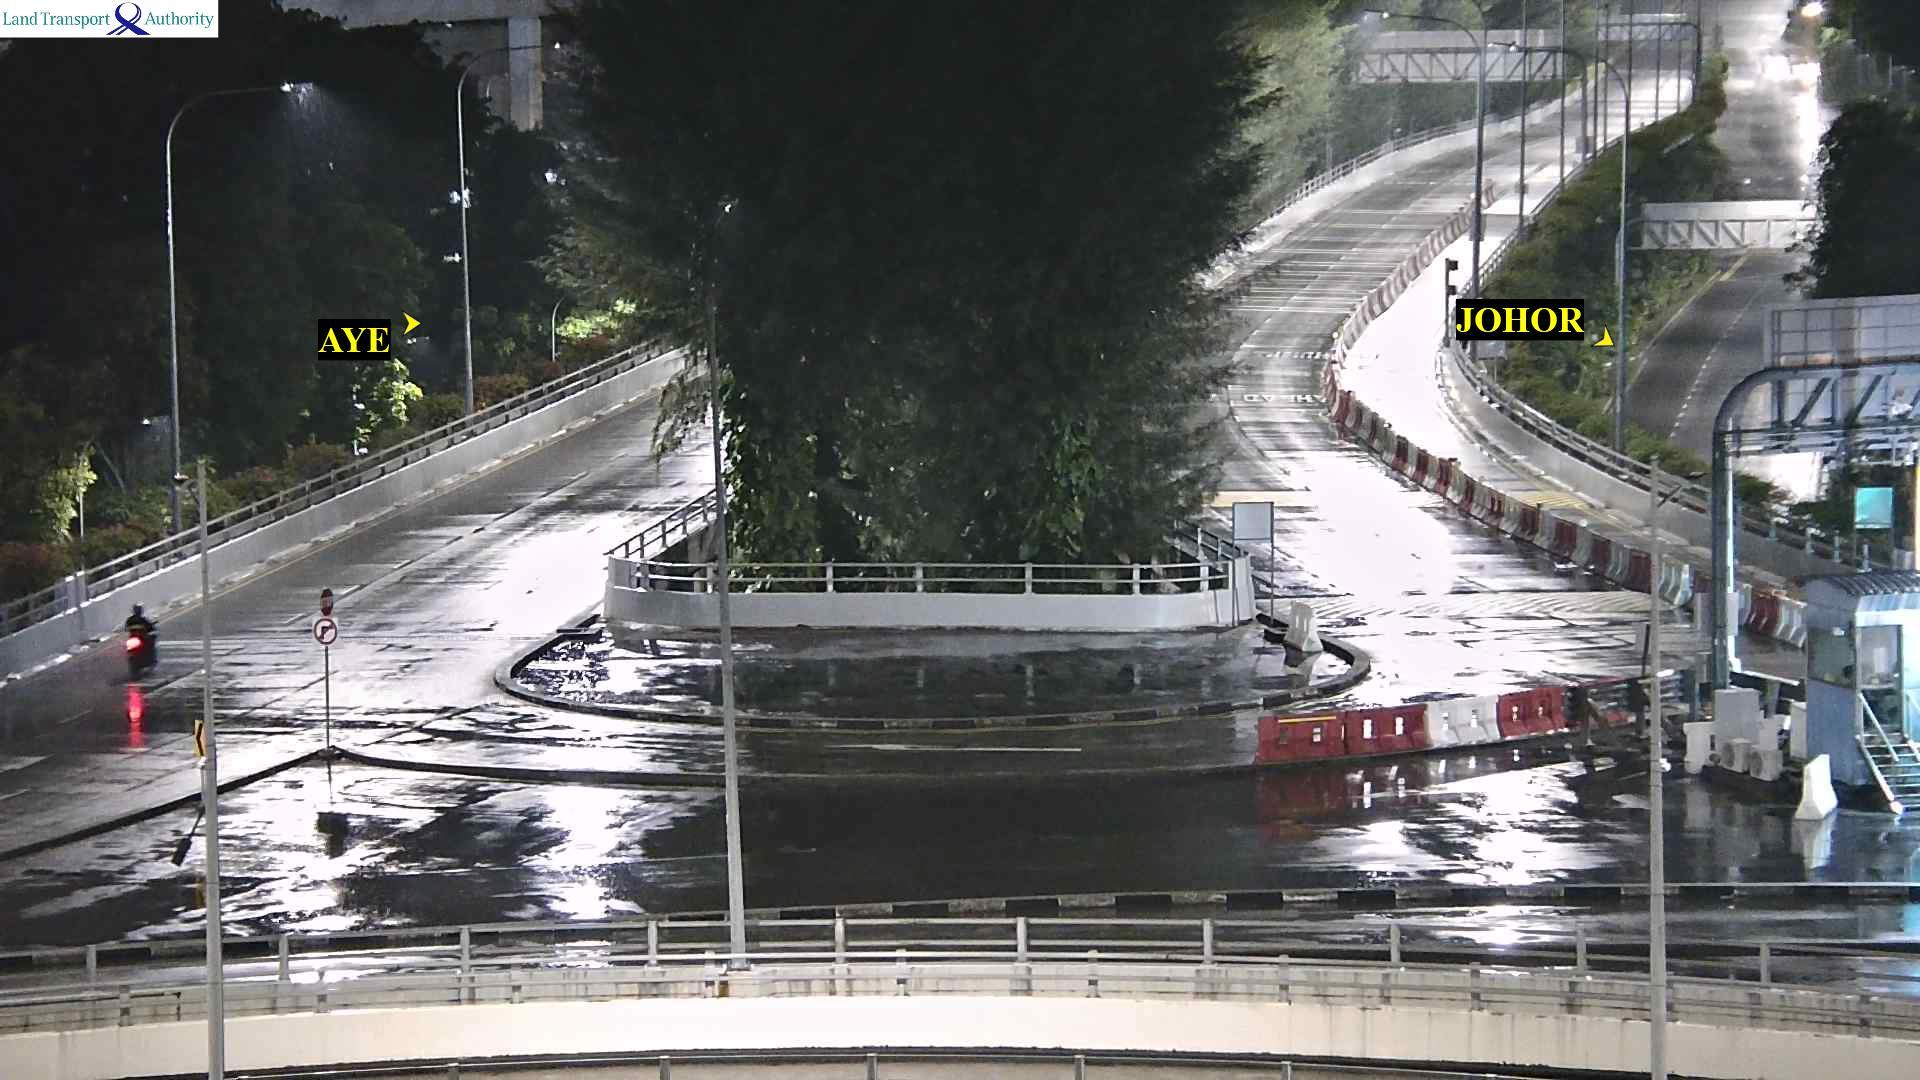vehicle-secondlink-singapore: (128, 600, 156, 661)
